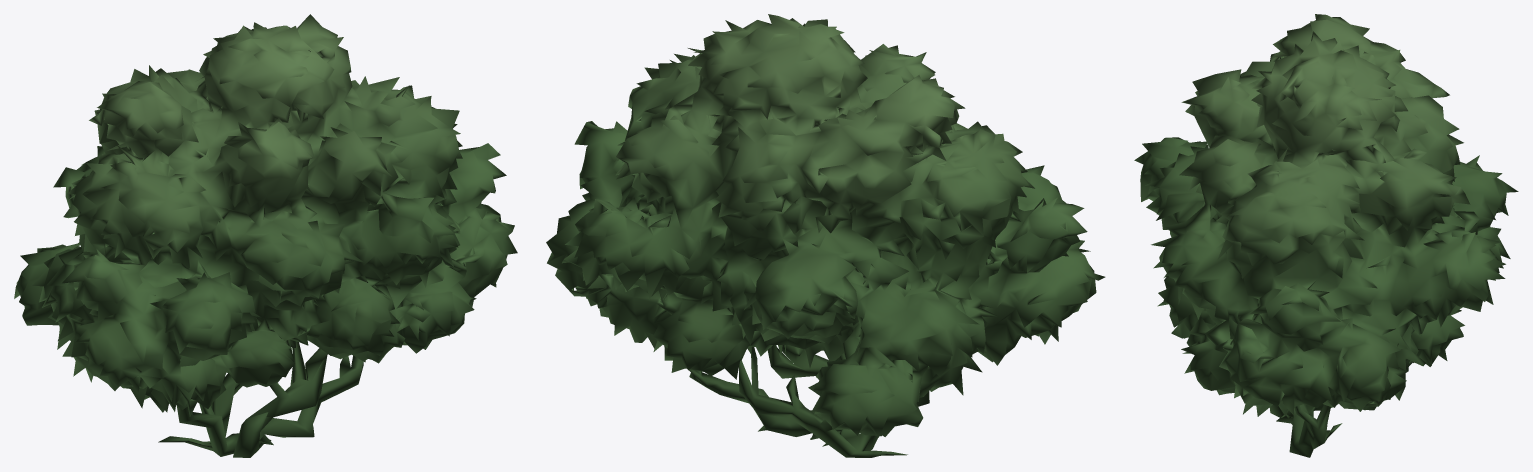
The model's file is bush.glb.
The picture shows the model from 3 angles, left to right: view 1: azimuth 30°, elevation 25°; view 2: azimuth 150°, elevation 25°; view 3: azimuth 270°, elevation 25°; orthographic projection. The views are drawn at different scales.
Parts seen in each view (by area): view 1: geometry_0; view 2: geometry_0; view 3: geometry_0.
Part boxes in pixels (box(x1,y1,x2,y2)): geometry_0: box(14, 14, 517, 457); geometry_0: box(546, 14, 1105, 457); geometry_0: box(1134, 14, 1518, 457).
Size of the model in its own units: 2.34 by 1.99 by 1.78.
